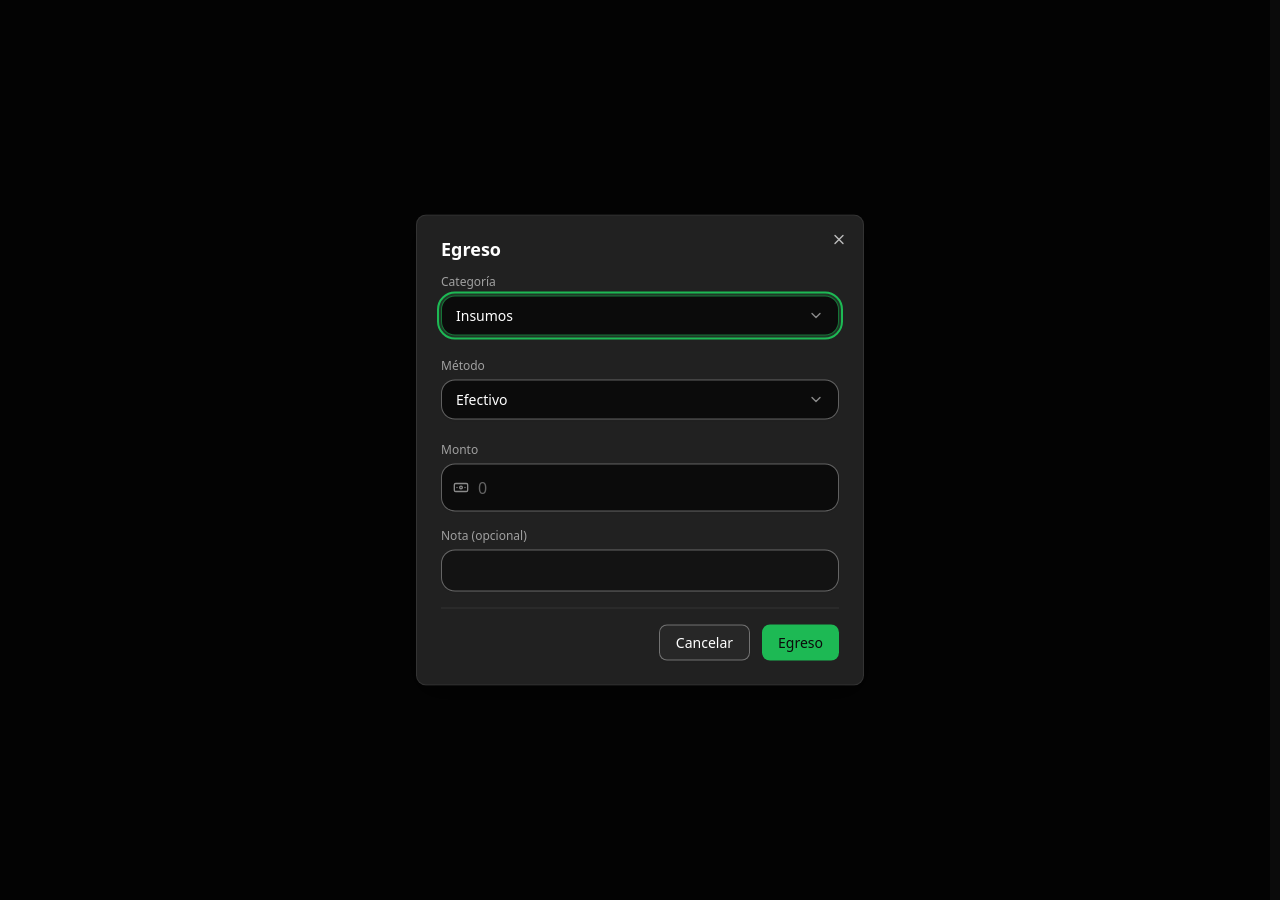
Test: MovementFormDialog › maps a 422 field error from the server onto the amount field
Type "5000" into the field labelled "Monto" at (640, 488), box x1=441 y1=464 x2=839 y2=512
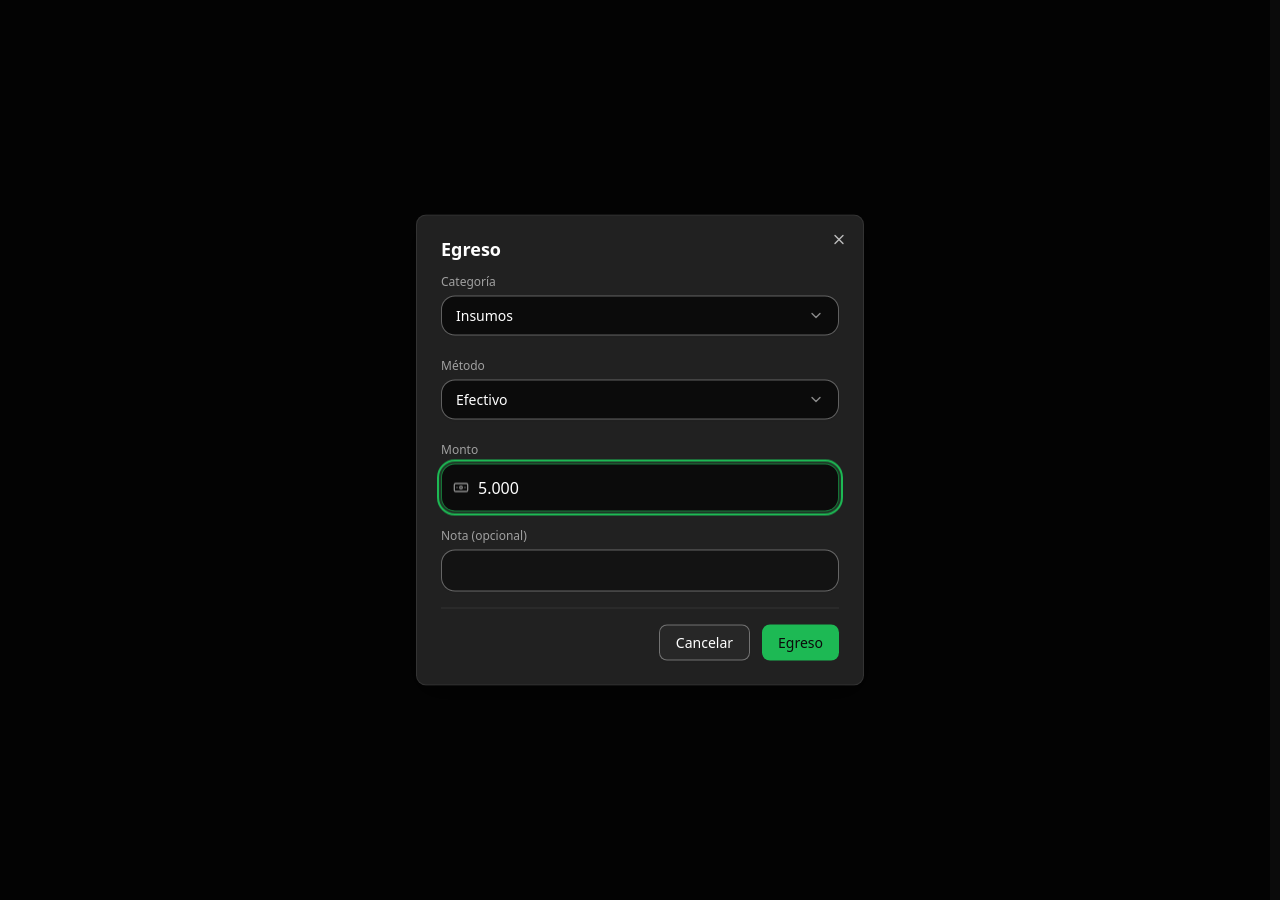
Click the button "Egreso" at (800, 642), box x1=762 y1=624 x2=839 y2=660
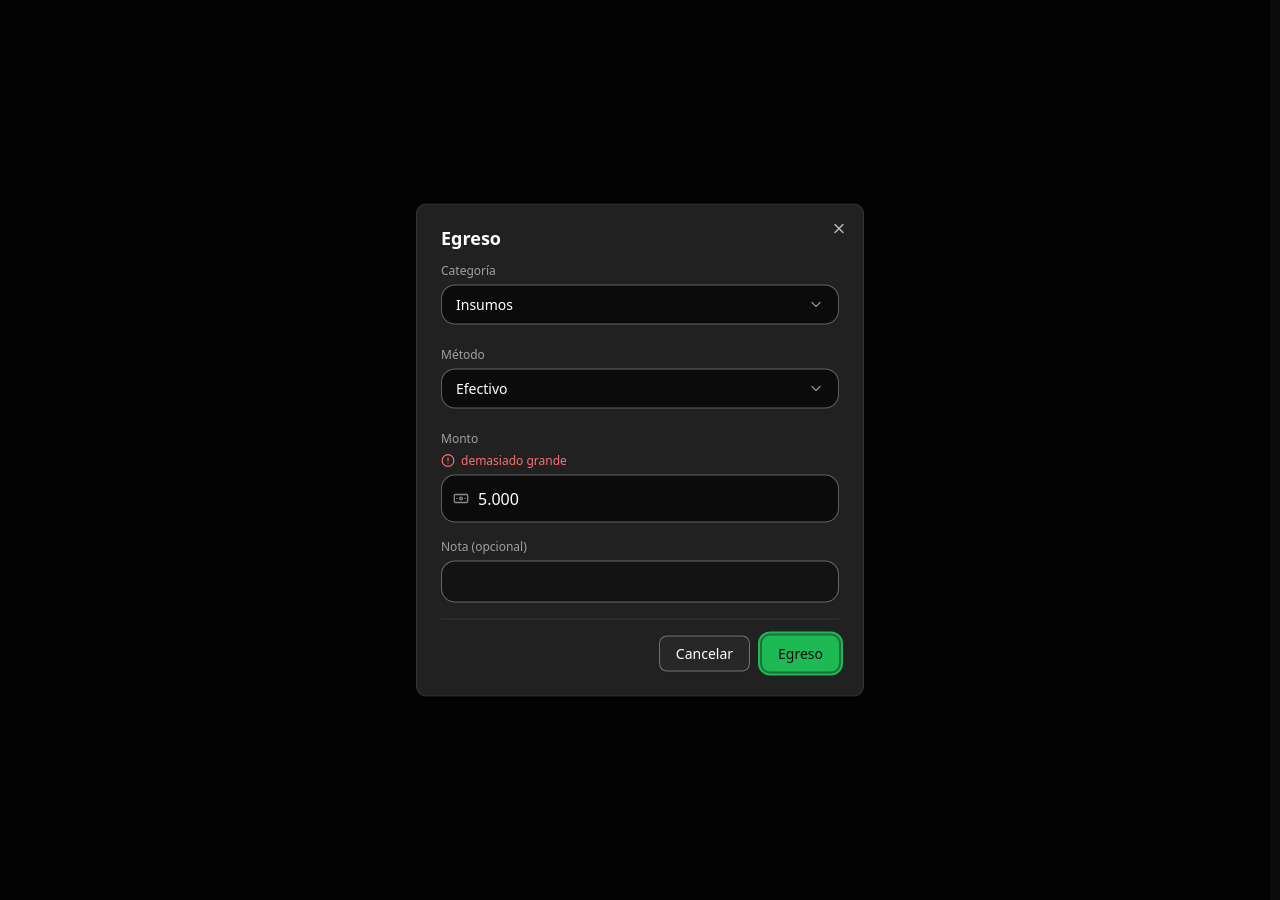
Now the text "demasiado grande" is shown, box x1=441 y1=452 x2=567 y2=468
